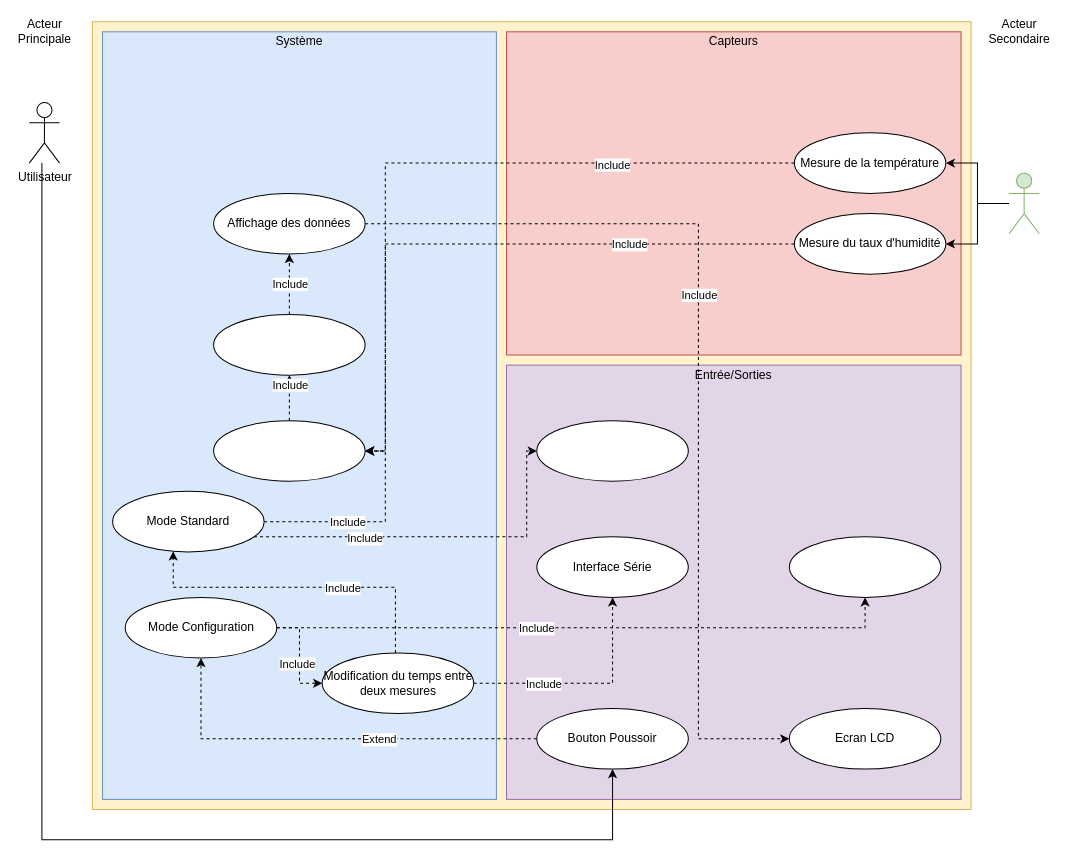
Some shapes in this 1082 by 866 pixel diagram are drawn without their labels. Here are the shapes that lost their labels. From the top down, the centre of each, then its label:
the point at 1023,203: Environnement
the point at 289,344: Simplification des données
the point at 289,450: Traitement des données
the point at 612,450: LED Verte
the point at 864,566: LED Jaune
